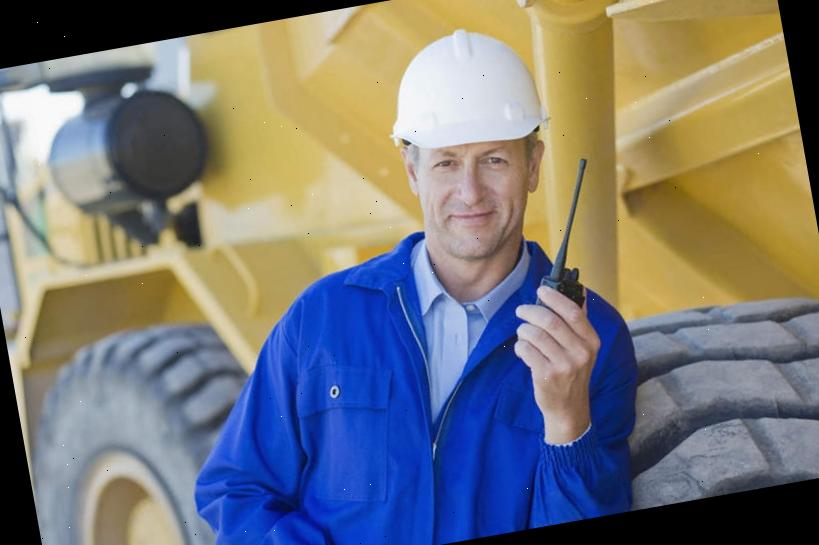helmet: (366, 14, 554, 166)
wear: (260, 236, 629, 545)
